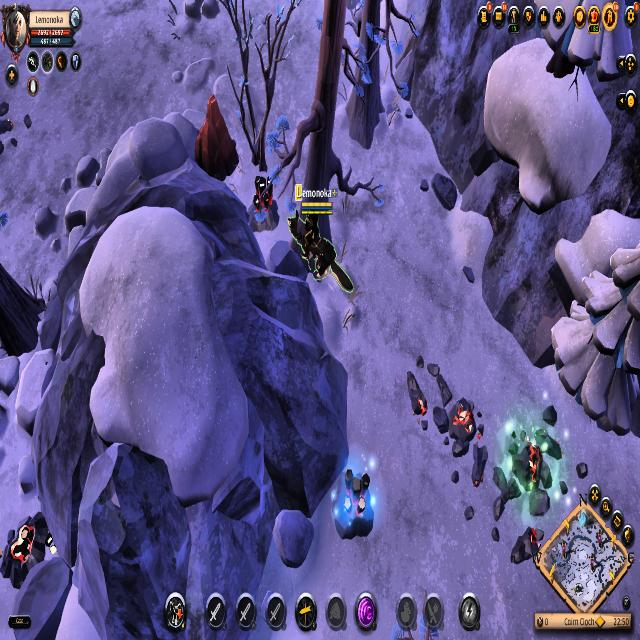ore tier 5: (333, 462, 376, 541)
rock tier 5: (192, 93, 240, 187)
